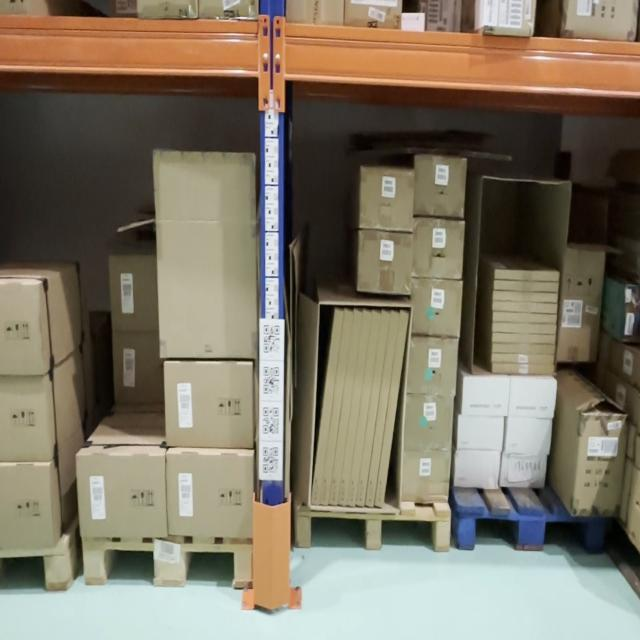box: (155, 153, 255, 356), (164, 364, 253, 447), (78, 453, 167, 536), (166, 455, 252, 538), (574, 412, 628, 517), (358, 232, 413, 293), (360, 171, 414, 232), (413, 158, 466, 217), (413, 219, 465, 278), (406, 338, 458, 394), (411, 279, 462, 335), (403, 395, 454, 450), (402, 452, 449, 500), (458, 416, 503, 452), (462, 382, 508, 414), (456, 452, 499, 485), (510, 382, 554, 414), (502, 454, 546, 486), (506, 421, 551, 452)
